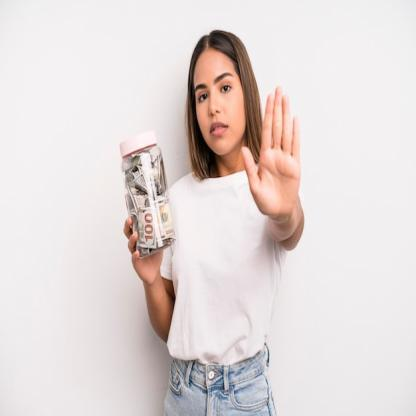stop: (240, 83, 304, 223)
